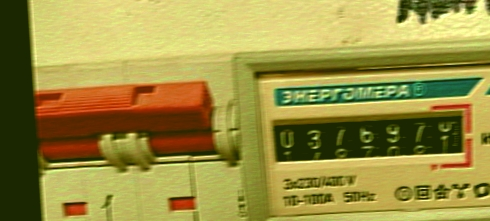0: (279, 128, 294, 151)
1: (438, 135, 451, 156)
3: (306, 129, 322, 152)
6: (358, 122, 374, 146)
7: (331, 125, 347, 148), (412, 121, 427, 145)
9: (384, 122, 400, 146)
screen: (262, 99, 477, 186)
